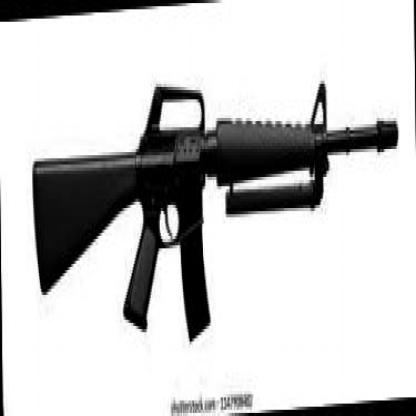rifle: (32, 72, 398, 344)
